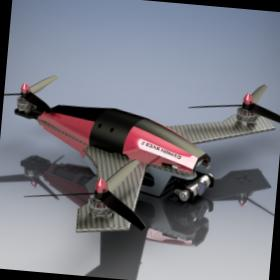drone: (0, 58, 275, 258)
